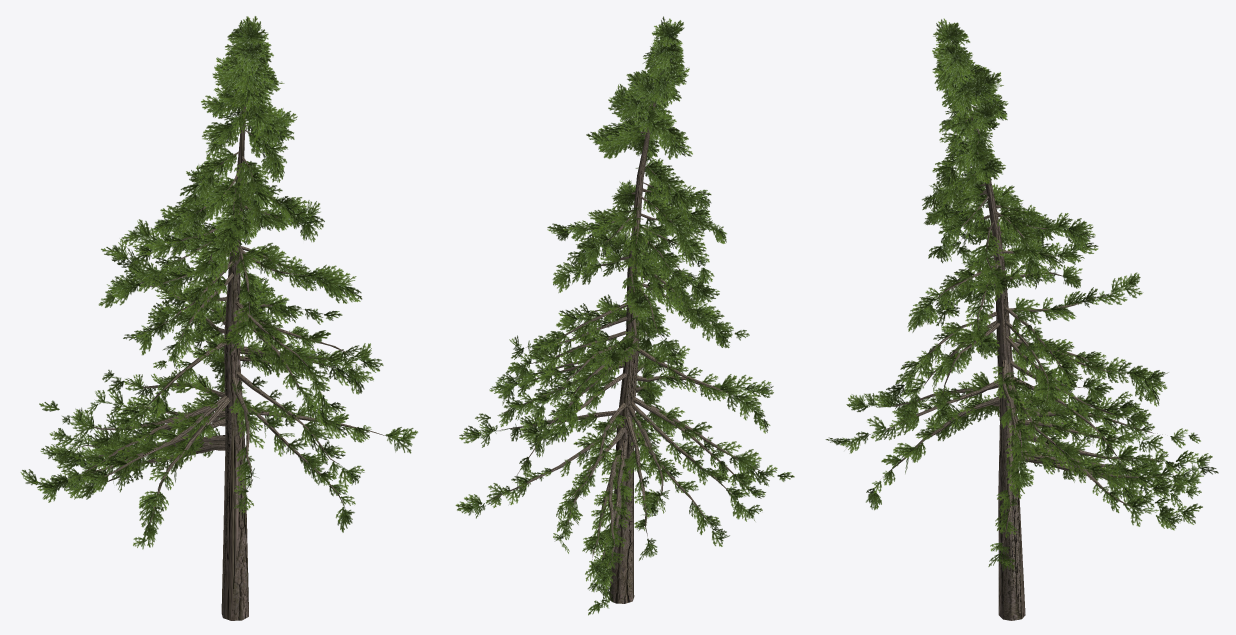
File: pino_mediano_1.glb
The picture shows the model from 3 angles, left to right: view 1: azimuth 30°, elevation 25°; view 2: azimuth 150°, elevation 25°; view 3: azimuth 270°, elevation 25°; orthographic projection. The views are drawn at different scales.
Visible parts, largest first — view 1: pino_mediano_1_hojas, pino_mediano_1_ramas; view 2: pino_mediano_1_hojas, pino_mediano_1_ramas; view 3: pino_mediano_1_hojas, pino_mediano_1_ramas.
Boxes of the visible parts, x1=… form: pino_mediano_1_hojas: x1=20, y1=16, x2=417, y2=549; pino_mediano_1_ramas: x1=68, y1=104, x2=386, y2=620; pino_mediano_1_hojas: x1=455, y1=16, x2=794, y2=615; pino_mediano_1_ramas: x1=488, y1=72, x2=766, y2=603; pino_mediano_1_hojas: x1=825, y1=18, x2=1218, y2=570; pino_mediano_1_ramas: x1=863, y1=83, x2=1180, y2=620.
Size of the model in its own units: 8.12 by 13.44 by 8.22.
Materials: 2 (2 with a texture image).
